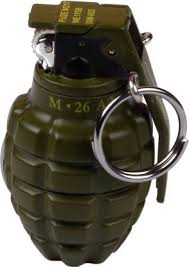bomb: (3, 4, 188, 262)
